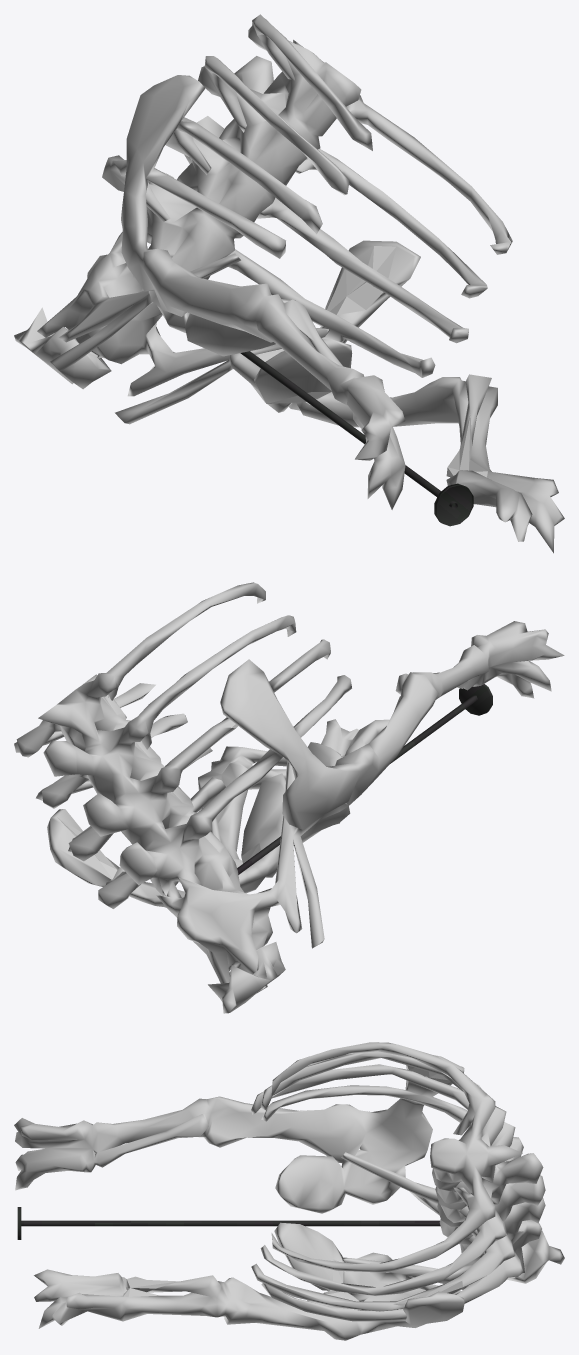
File: fossil11.fbx
3 renders of one model, top to bottom at view 1: azimuth 30°, elevation 25°; view 2: azimuth 150°, elevation 25°; view 3: azimuth 270°, elevation 25°, orthographic. The views are drawn at different scales.
Visible parts, largest first — view 1: Low_chest__mFtrFossilBrachiosaurusB, pipe8__mFossilPole; view 2: Low_chest__mFtrFossilBrachiosaurusB, pipe8__mFossilPole; view 3: Low_chest__mFtrFossilBrachiosaurusB, pipe8__mFossilPole.
Part boxes in pixels (x1=…): Low_chest__mFtrFossilBrachiosaurusB: x1=14, y1=14, x2=564, y2=553; pipe8__mFossilPole: x1=240, y1=351, x2=473, y2=526; Low_chest__mFtrFossilBrachiosaurusB: x1=14, y1=582, x2=564, y2=1013; pipe8__mFossilPole: x1=237, y1=684, x2=492, y2=874; Low_chest__mFtrFossilBrachiosaurusB: x1=14, y1=1042, x2=564, y2=1340; pipe8__mFossilPole: x1=17, y1=1207, x2=440, y2=1239.
Size of the model in its own units: 2796 by 2791 by 4697.
